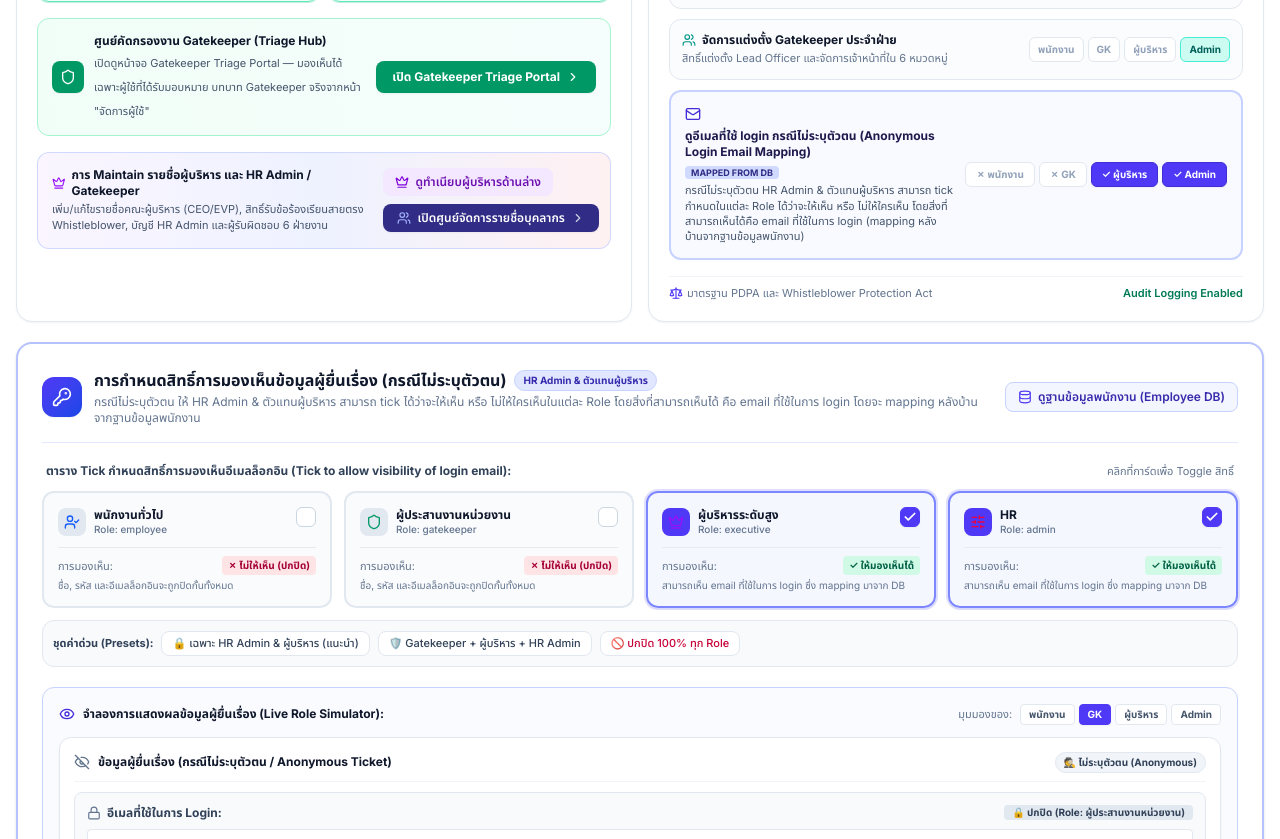
Scenario: RoleBasedAccessManagement › employee directory › lists the employee directory on demand (page 0 from the HR view)
(page scrolled)
Click the button "ดูฐานข้อมูลพนักงาน (Employee DB)".
click(1122, 397)  # box [1005,382,1238,412]
(page scrolled)
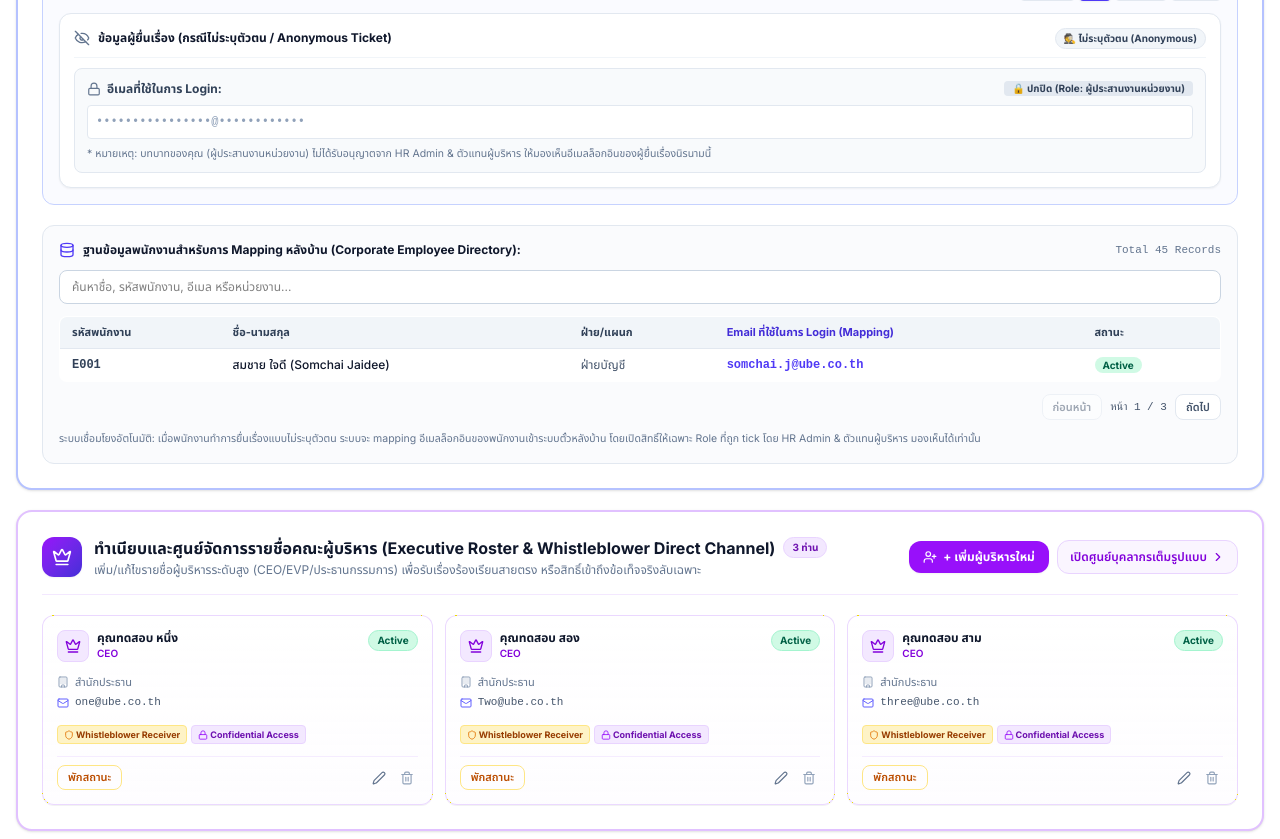
Result: the text "Corporate Employee Directory" is shown at [83,242,521,257]
Result: the text "E001" is shown at [60,348,221,381]
Result: the text "Total 45 Records" is shown at [1115,242,1221,258]
